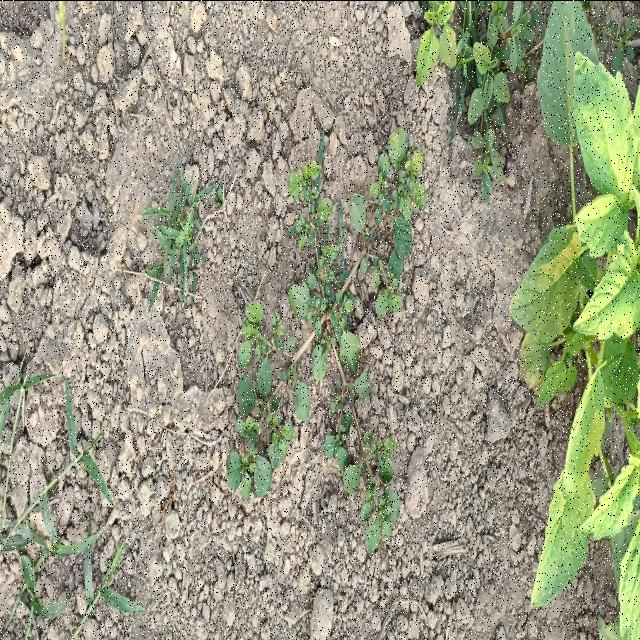plant: (228, 127, 425, 550)
